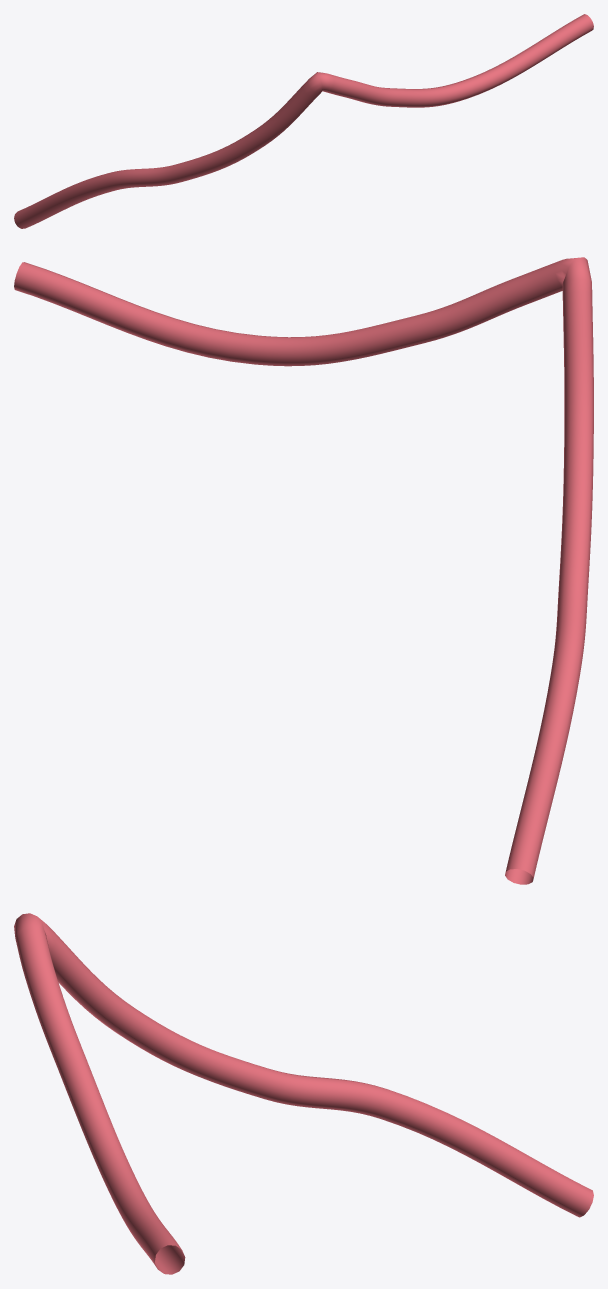
The picture shows the model from 3 angles, top to bottom: view 1: azimuth 30°, elevation 25°; view 2: azimuth 150°, elevation 25°; view 3: azimuth 270°, elevation 25°; orthographic projection. The views are drawn at different scales.
Parts seen in each view (by area): view 1: ZA_f6ab22abffcdf0bb; view 2: ZA_f6ab22abffcdf0bb; view 3: ZA_f6ab22abffcdf0bb.
Boxes of the visible parts, x1,y1,x2,y2 form: ZA_f6ab22abffcdf0bb: (14,14,593,228); ZA_f6ab22abffcdf0bb: (14,257,593,884); ZA_f6ab22abffcdf0bb: (14,913,593,1274).
Bounding box in the file's own units: 0.0443 × 0.023 × 0.0298.
